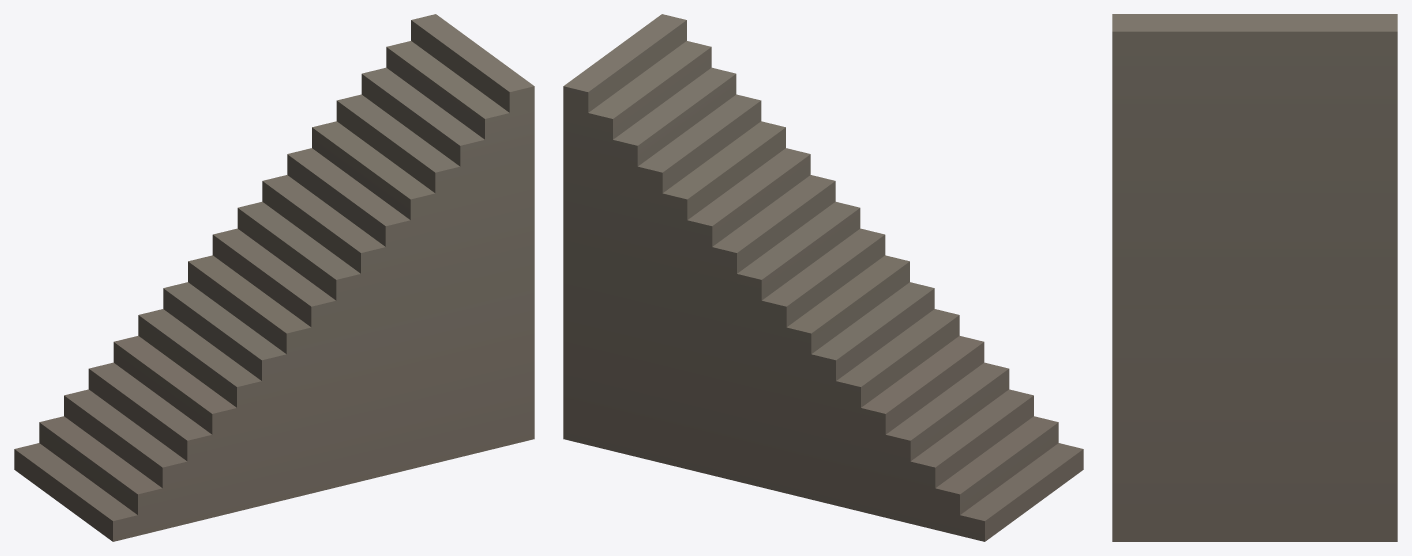
Rendered from Stairs_C_1_3.obj.
The picture shows the model from 3 angles, left to right: view 1: azimuth 30°, elevation 25°; view 2: azimuth 150°, elevation 25°; view 3: azimuth 270°, elevation 25°; orthographic projection. The views are drawn at different scales.
Visible parts, largest first — view 1: Stairs_C_1_3; view 2: Stairs_C_1_3; view 3: Stairs_C_1_3.
Part boxes in pixels (x1,y1,x2,y2): Stairs_C_1_3: [14, 14, 534, 541]; Stairs_C_1_3: [563, 14, 1083, 541]; Stairs_C_1_3: [1112, 14, 1397, 541].
Bounding box in the file's own units: 3.4 × 2.72 × 1.38.
